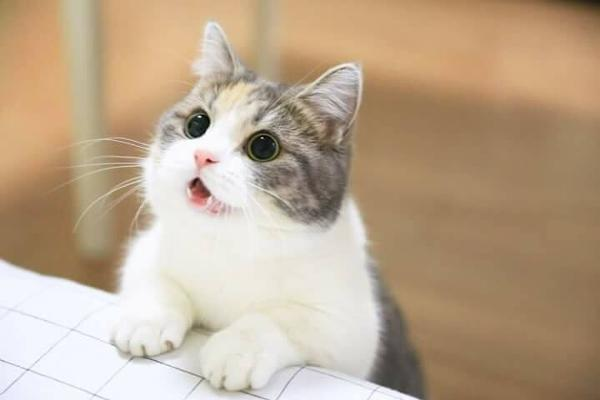cat: (110, 19, 425, 398)
